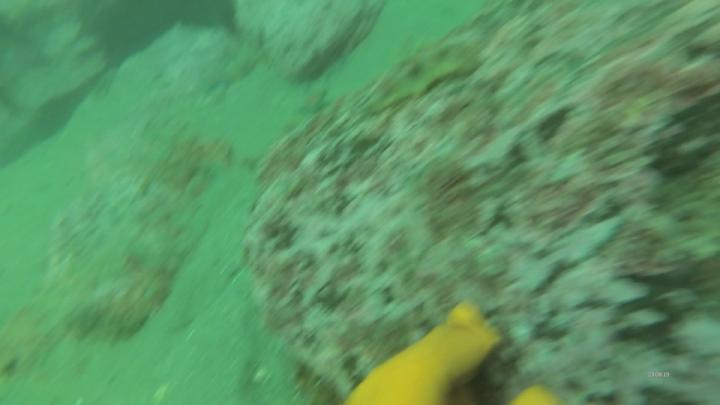holothurian: (374, 46, 482, 109)
